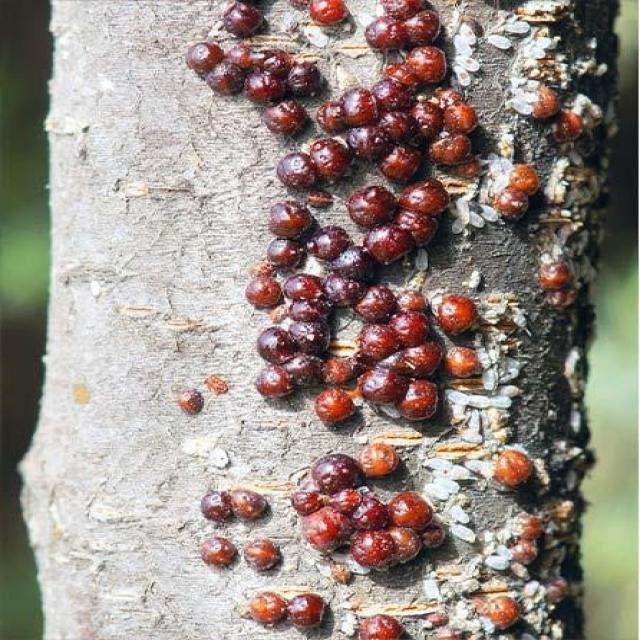Black Scale: (269, 0, 476, 308), (288, 453, 443, 570), (187, 42, 323, 134), (354, 281, 441, 421), (255, 274, 329, 396), (244, 591, 327, 629), (488, 159, 538, 220), (316, 357, 354, 422), (201, 489, 268, 522), (492, 446, 538, 490), (222, 0, 267, 39), (435, 294, 475, 335), (359, 439, 400, 479), (476, 593, 518, 629), (309, 0, 353, 33), (247, 271, 283, 309), (445, 346, 480, 380), (243, 539, 280, 571), (201, 535, 237, 567), (359, 614, 403, 639)
